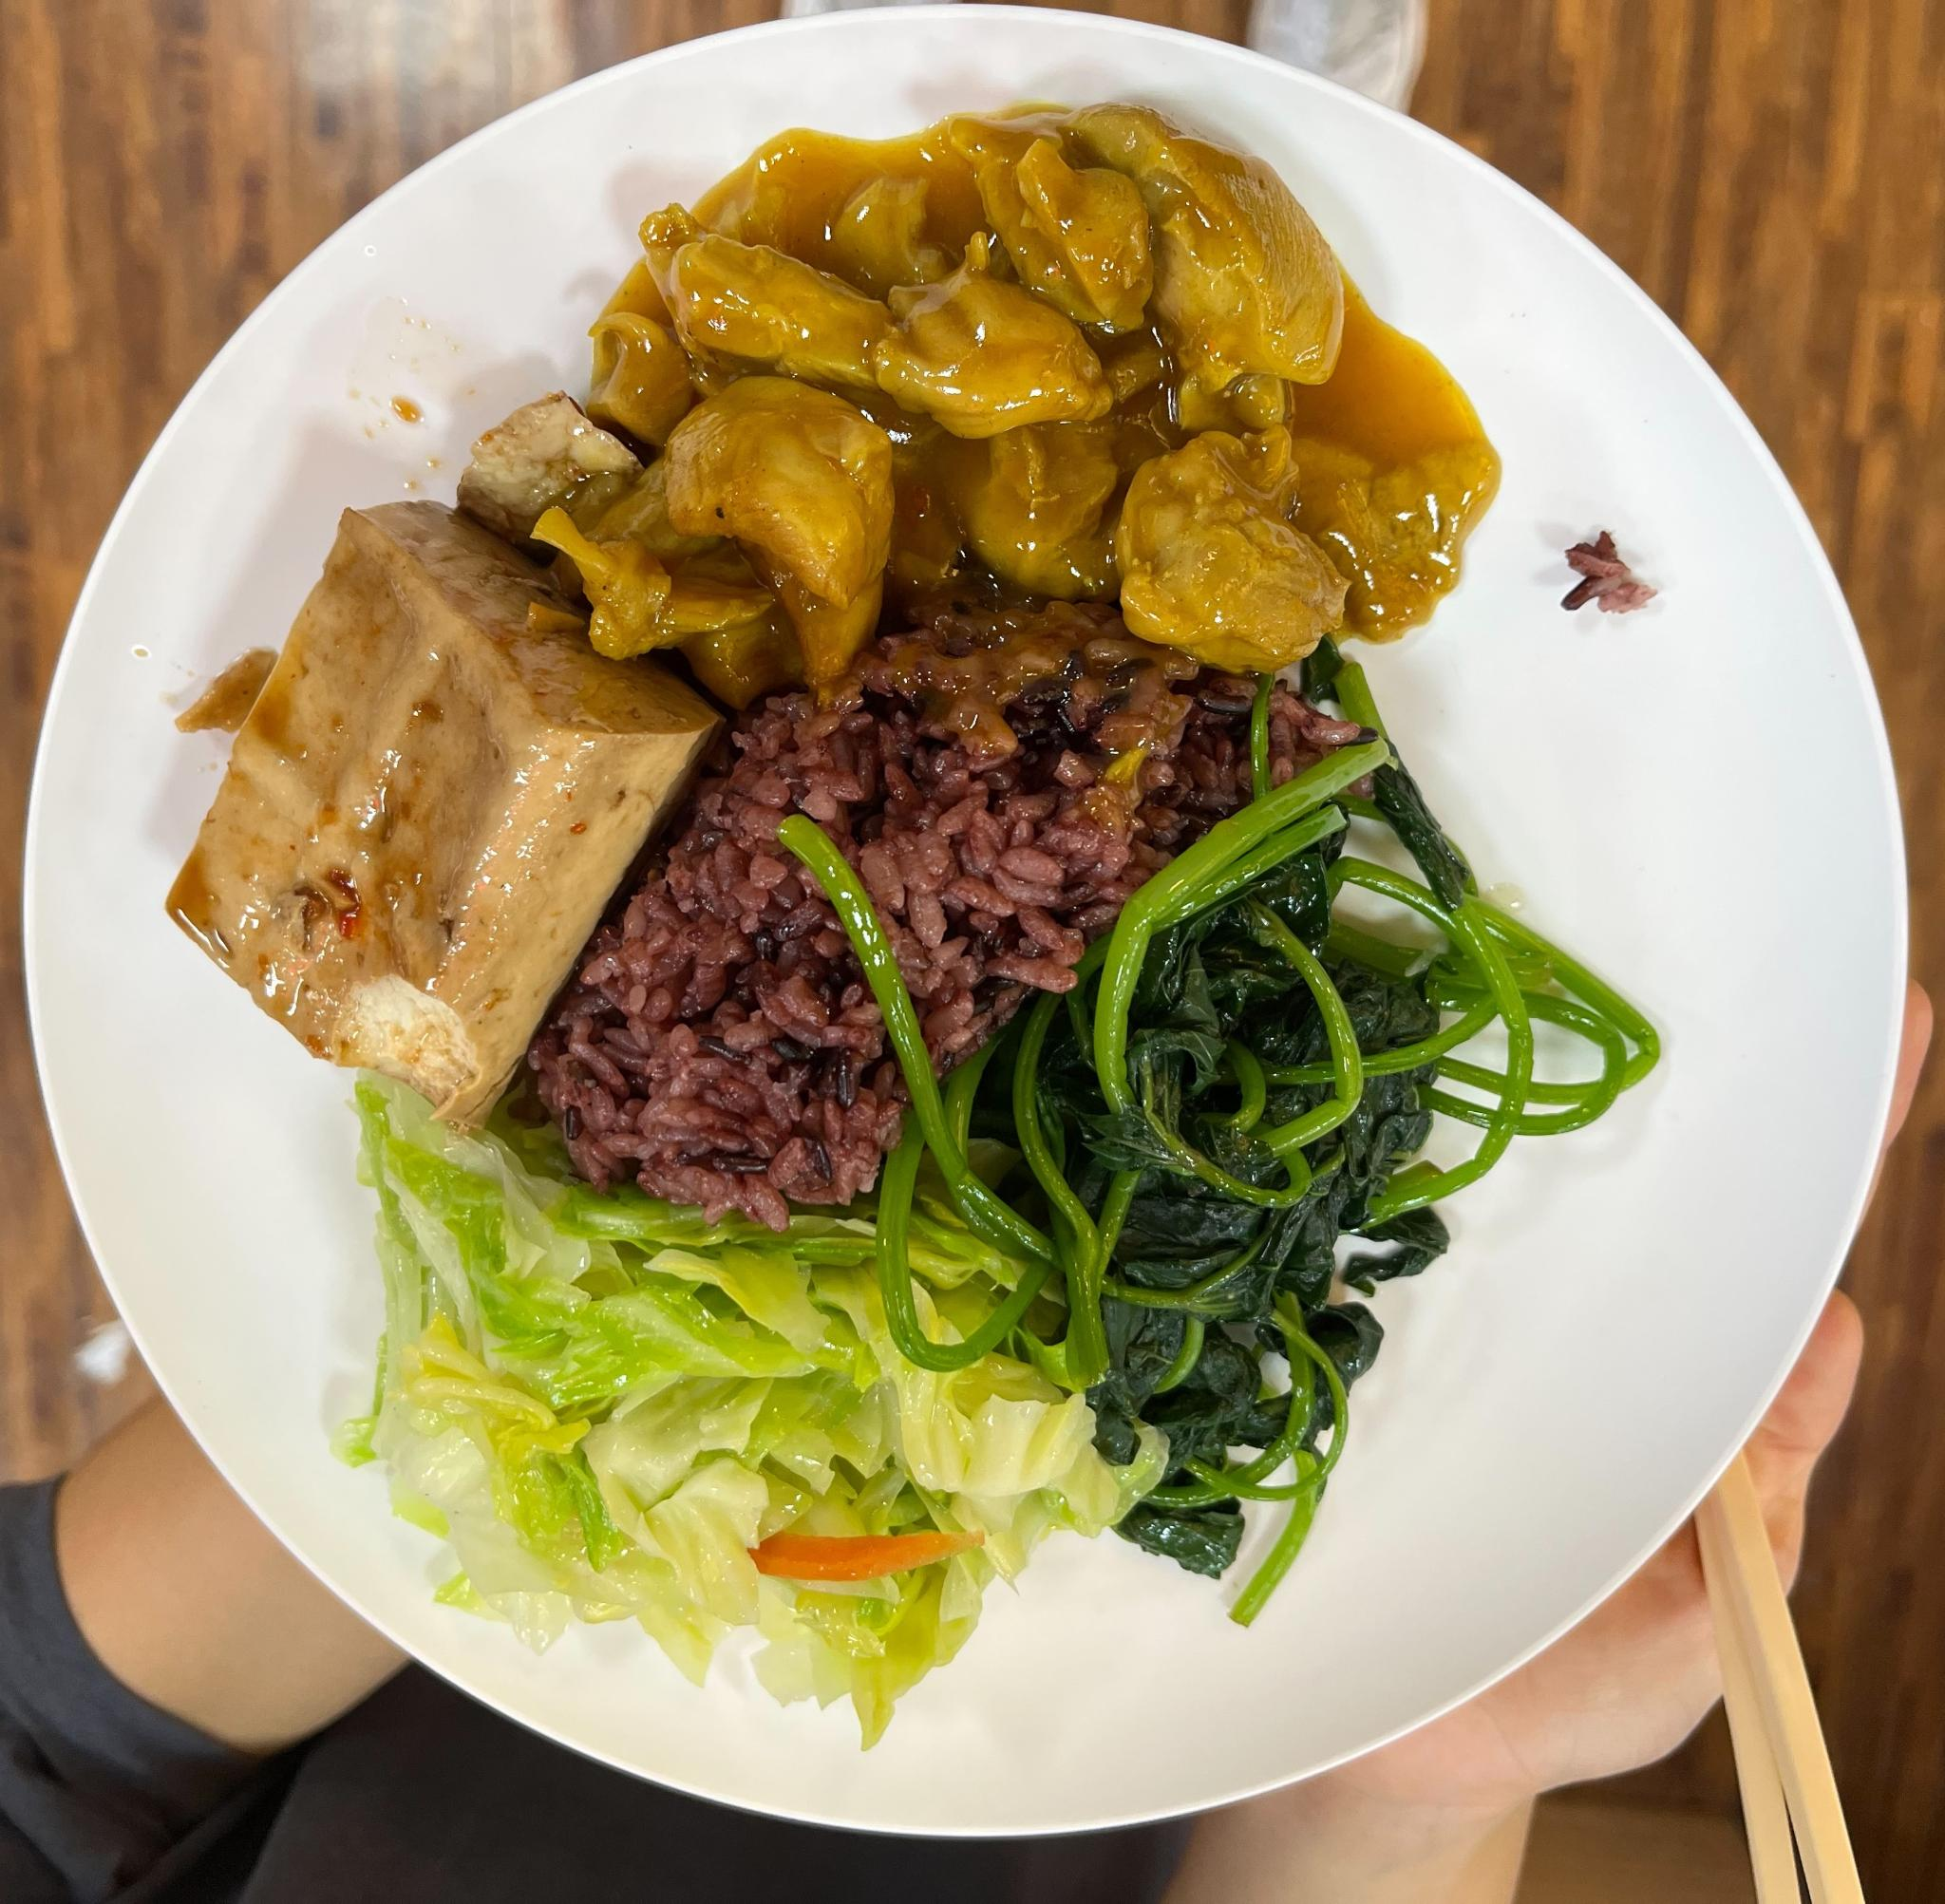big fried chicken leg: (2, 27, 1911, 1854)
braised fish: (486, 530, 1248, 1204)
braised fish fillet: (935, 748, 1508, 1527), (317, 1151, 1100, 1687), (184, 484, 697, 1103)
braised pork: (456, 91, 1512, 657)
